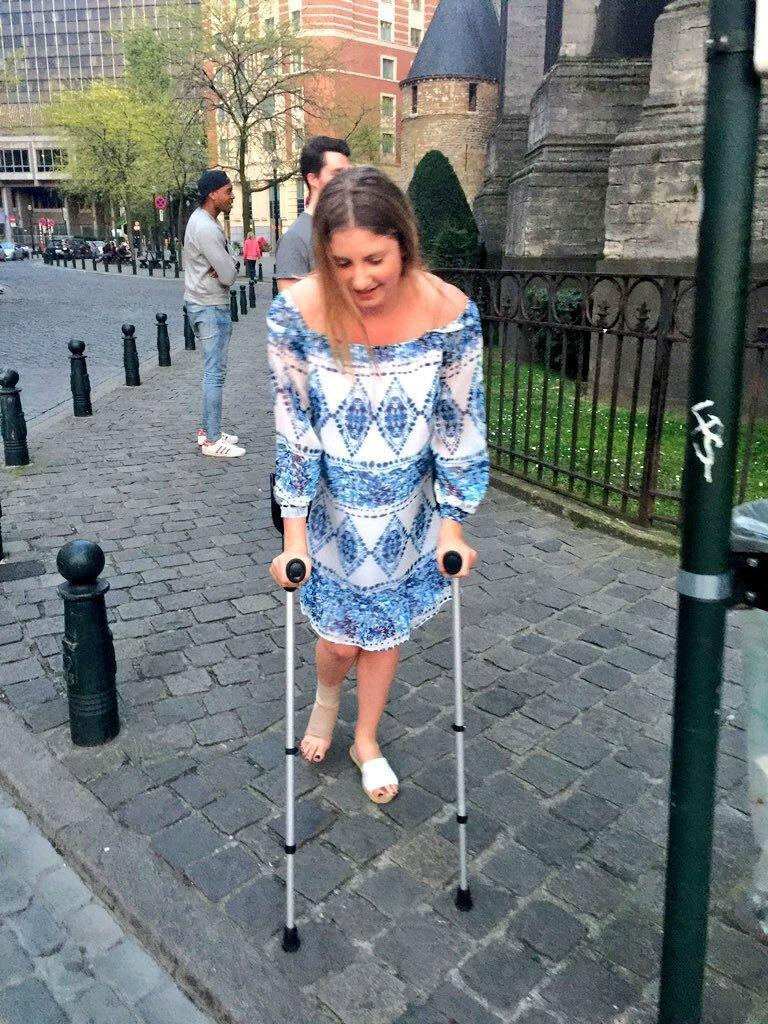crutches: (267, 159, 499, 961)
